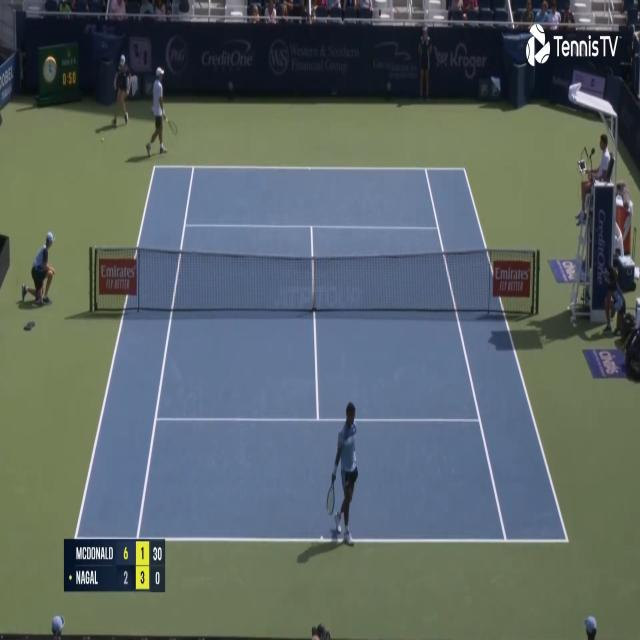tennis-player: (325, 398, 362, 551), (143, 64, 179, 158)
